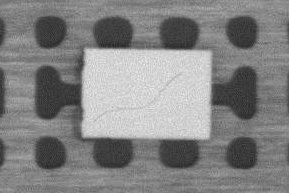DIE_CRACK: (94, 72, 181, 122)
